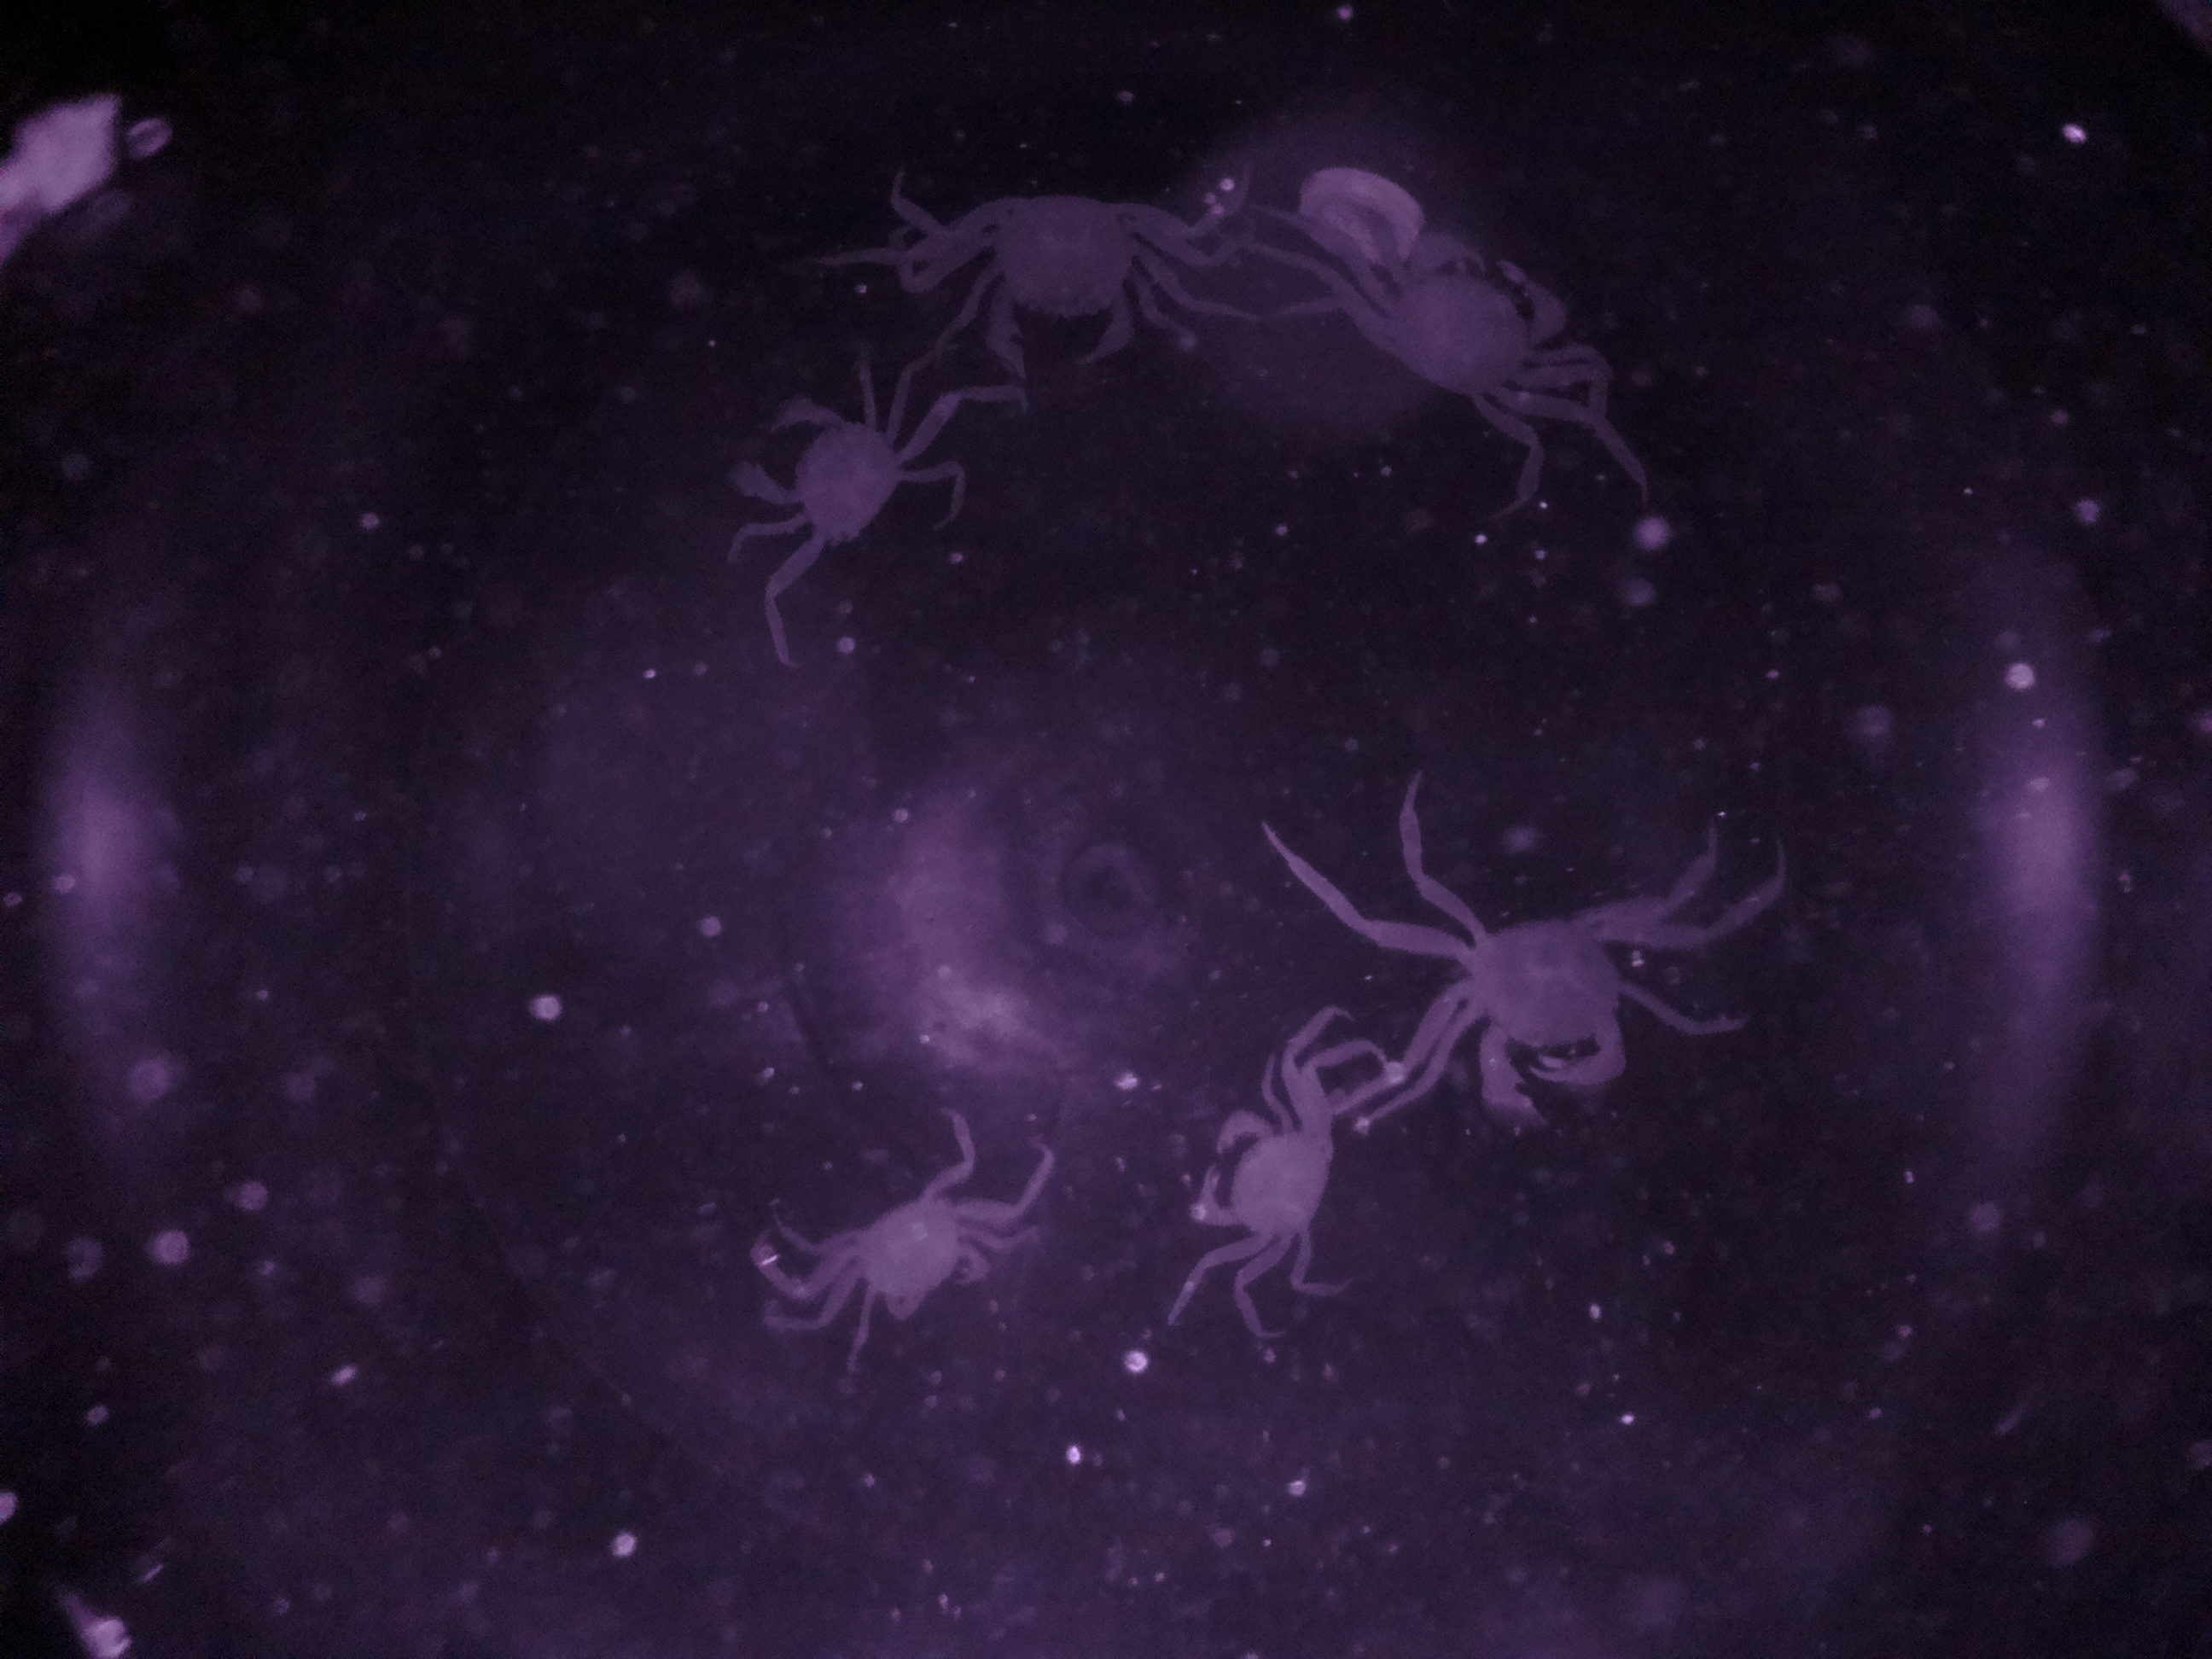Crab: (1376, 866, 1726, 1134), (902, 159, 1251, 408), (1308, 207, 1630, 467), (719, 371, 963, 598), (794, 1155, 1057, 1363), (1167, 1063, 1371, 1290)
